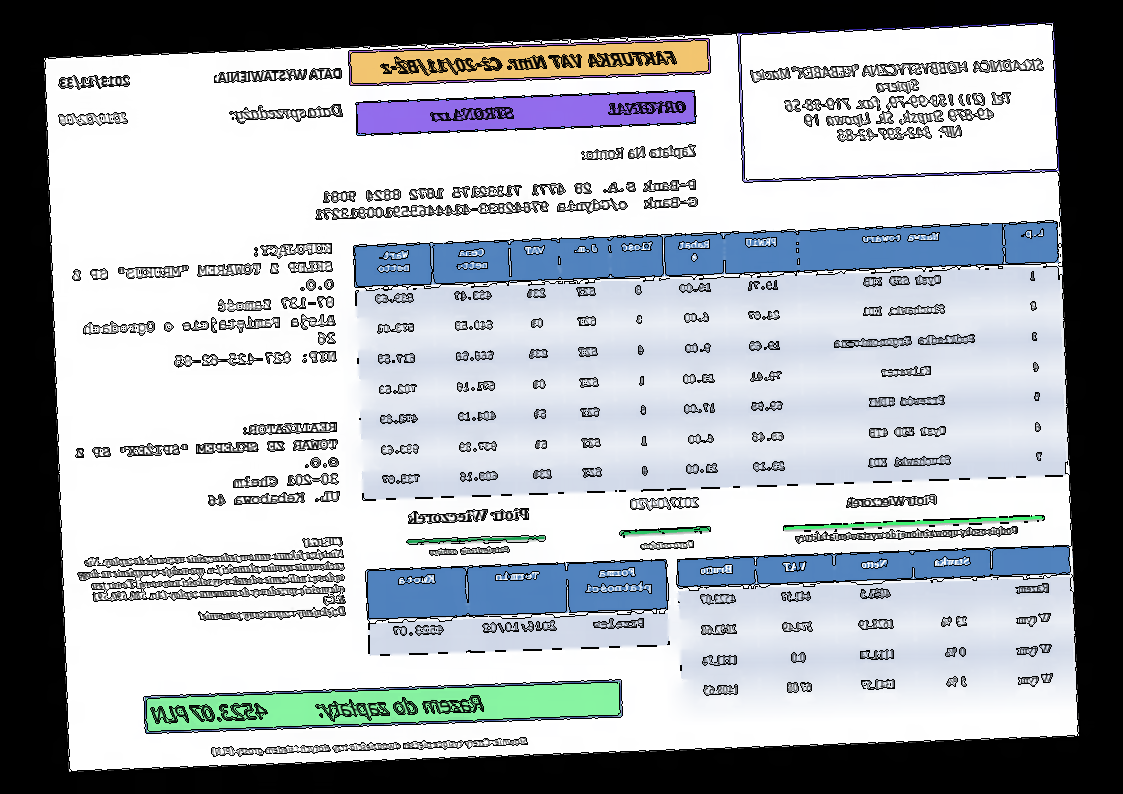Table: (352, 218, 1069, 502), (676, 543, 1077, 712), (364, 556, 672, 657)
TextBox: (67, 238, 340, 376), (747, 54, 1049, 149), (72, 532, 350, 630), (71, 418, 342, 515), (310, 175, 700, 226), (148, 690, 488, 727), (375, 44, 679, 80), (209, 733, 532, 759), (428, 95, 689, 124), (794, 522, 1021, 546), (225, 98, 346, 126), (212, 64, 344, 86), (577, 141, 699, 164), (406, 505, 532, 526), (841, 491, 941, 511), (55, 72, 133, 92), (629, 493, 702, 514), (56, 109, 133, 128), (428, 543, 512, 558), (639, 536, 698, 553)
